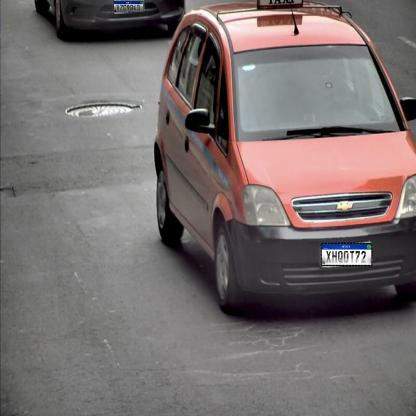PlacaM: (321, 243, 372, 266), (114, 0, 144, 12)
